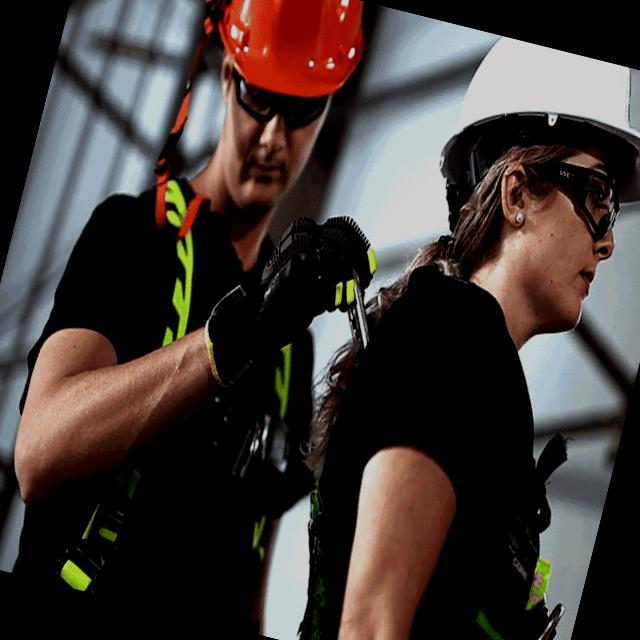goggles: (536, 155, 638, 255)
helmet: (443, 32, 640, 265), (211, 0, 378, 121)
no-vest: (0, 145, 380, 638), (264, 238, 640, 640)
